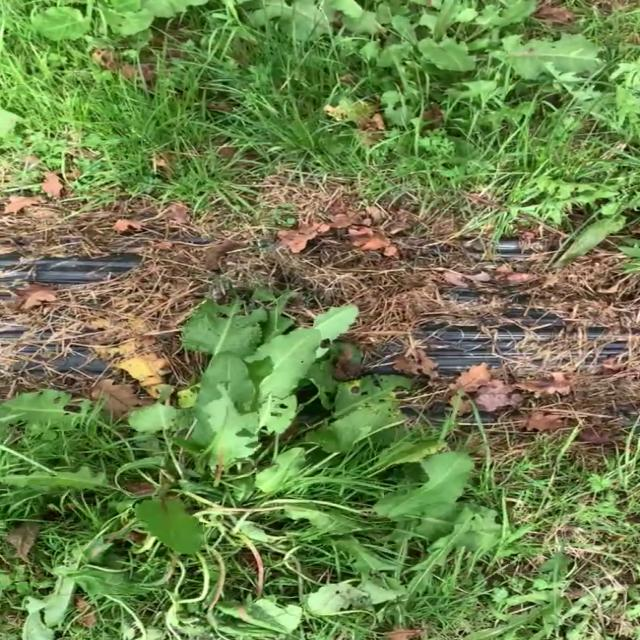organic waste: (0, 280, 496, 640), (238, 0, 612, 126), (0, 0, 229, 68)
